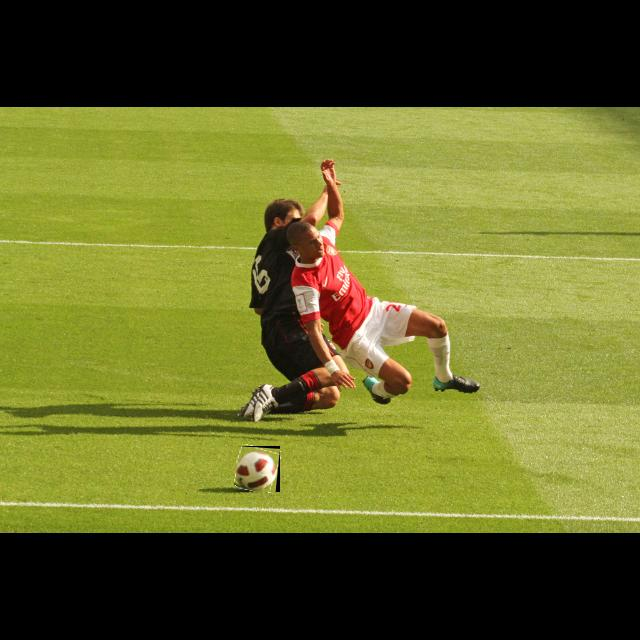Football: (236, 446, 280, 492)
